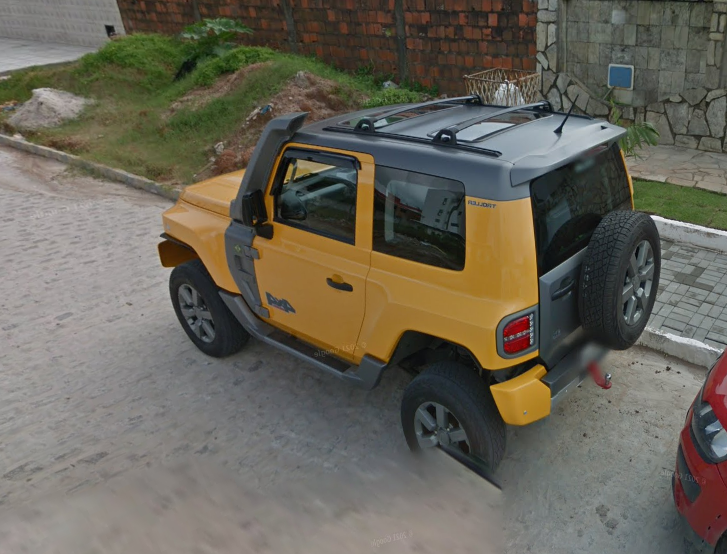car: (152, 90, 663, 500)
